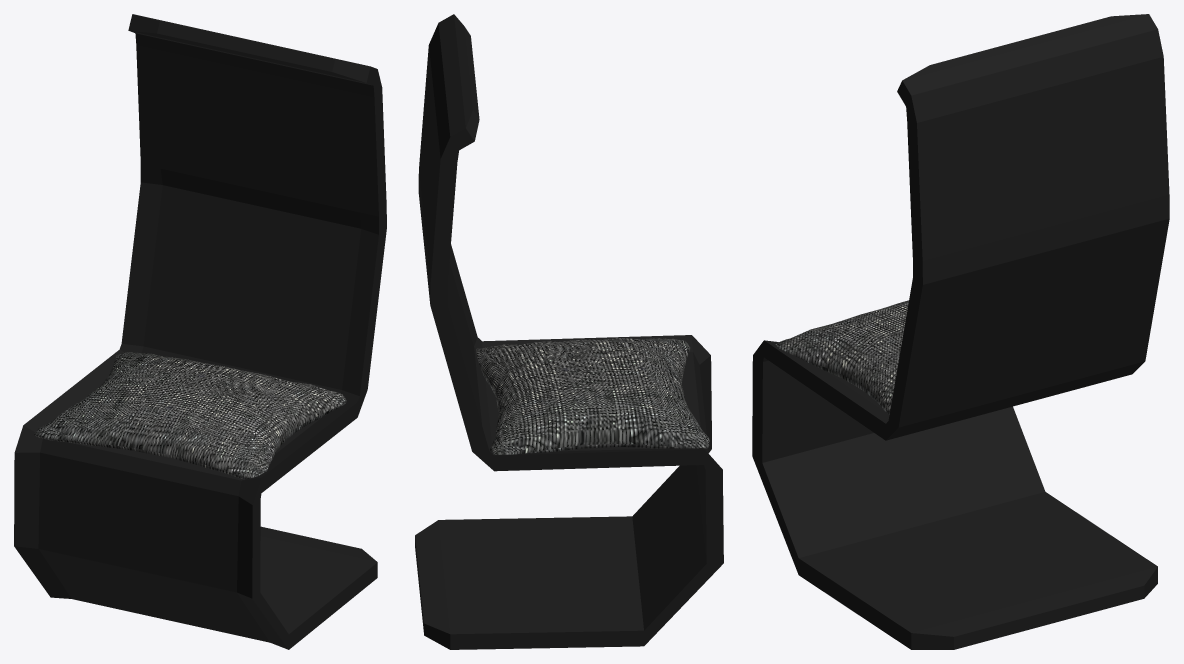
Rendered from DeskChairNEW.fbx.
3 views of the same model, side by side, from view 1: azimuth 30°, elevation 25°; view 2: azimuth 150°, elevation 25°; view 3: azimuth 270°, elevation 25° (orthographic). The views are drawn at different scales.
Visible parts, largest first — view 1: DeskChair, Pillow; view 2: DeskChair, Pillow; view 3: DeskChair, Pillow.
Part boxes in pixels (x1,y1,x2,y2): DeskChair: (14,14,386,649); Pillow: (34,352,346,479); DeskChair: (415,14,723,649); Pillow: (476,338,709,454); DeskChair: (752,14,1169,649); Pillow: (775,300,908,414).
Size of the model in its own units: 132 by 194 by 130.
2 materials, 1 textured.
